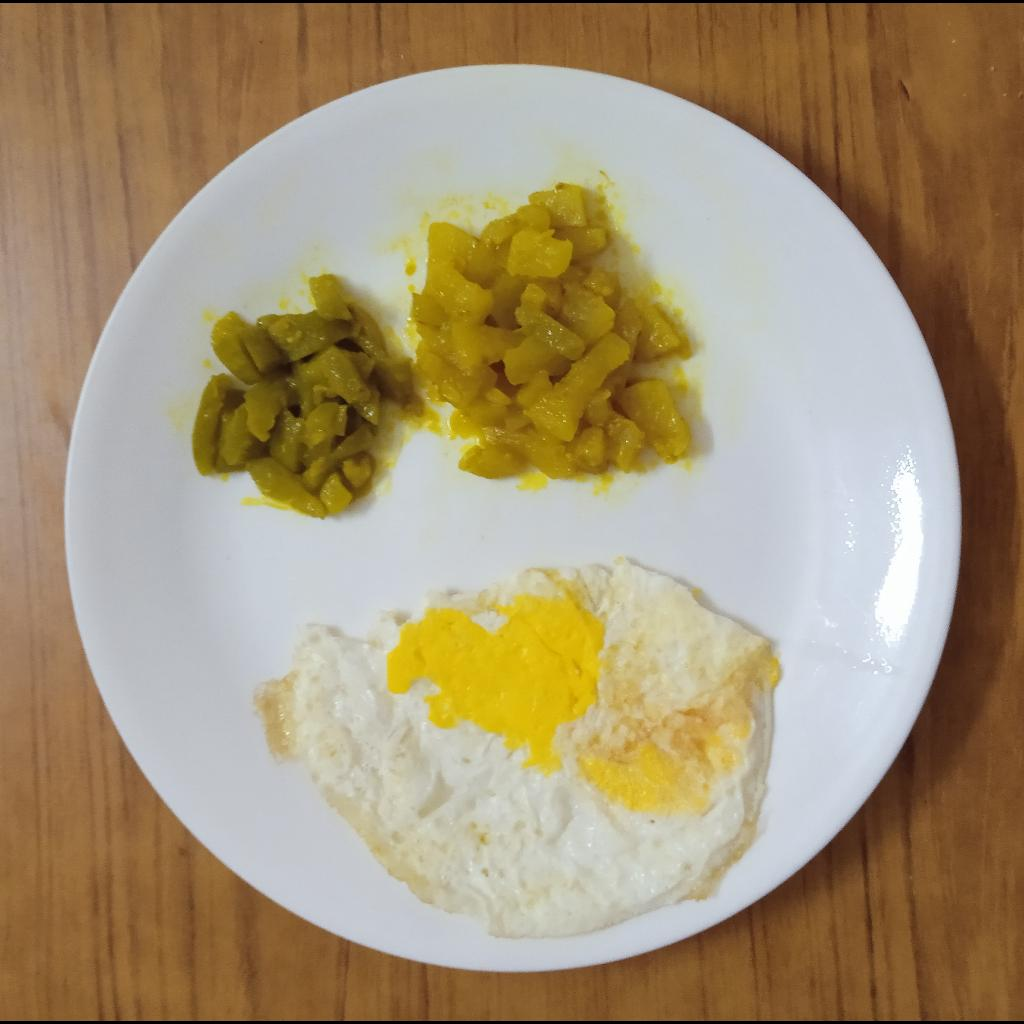dundol: (187, 269, 419, 524)
egg-poached: (252, 560, 779, 940)
lau: (402, 183, 692, 481)
